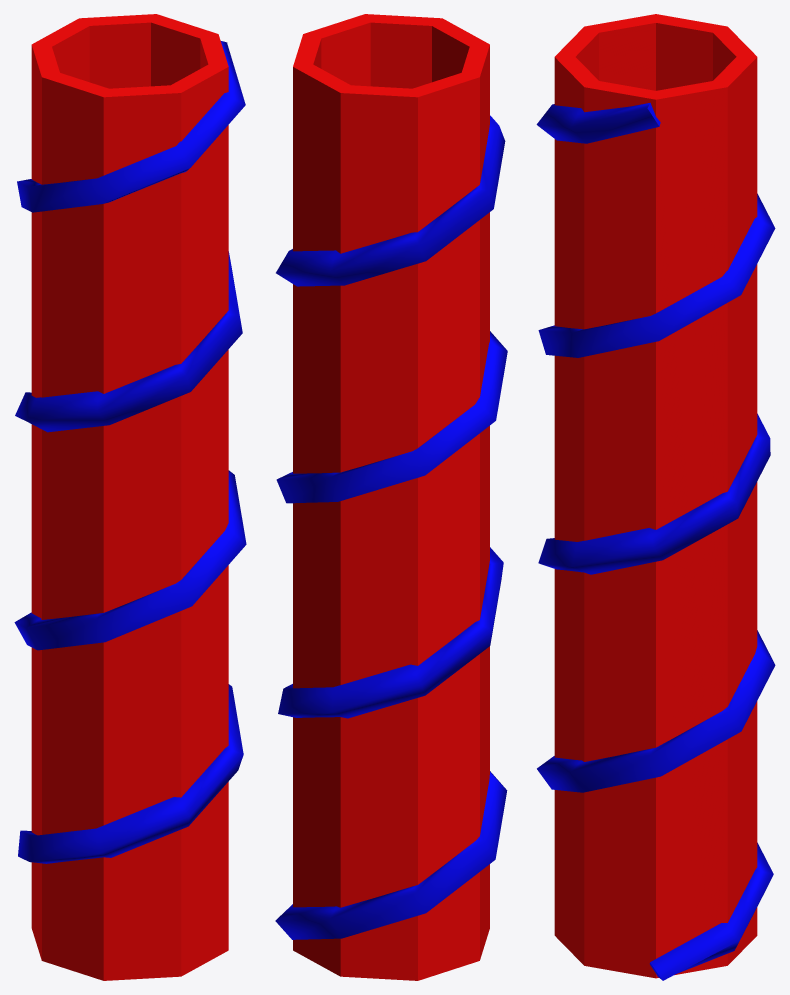
Rendered from factory_pipe.fbx.
3 renders of one model, left to right at view 1: azimuth 30°, elevation 25°; view 2: azimuth 150°, elevation 25°; view 3: azimuth 270°, elevation 25°, orthographic.
Visible parts, largest first — view 1: Cylinder; view 2: Cylinder; view 3: Cylinder.
Part boxes in pixels (left/top/right/bottom): Cylinder: left=14, top=14, right=246, bottom=980; Cylinder: left=275, top=14, right=507, bottom=980; Cylinder: left=536, top=14, right=775, bottom=980.
Bounding box in the file's own units: 236 × 958 × 236.
